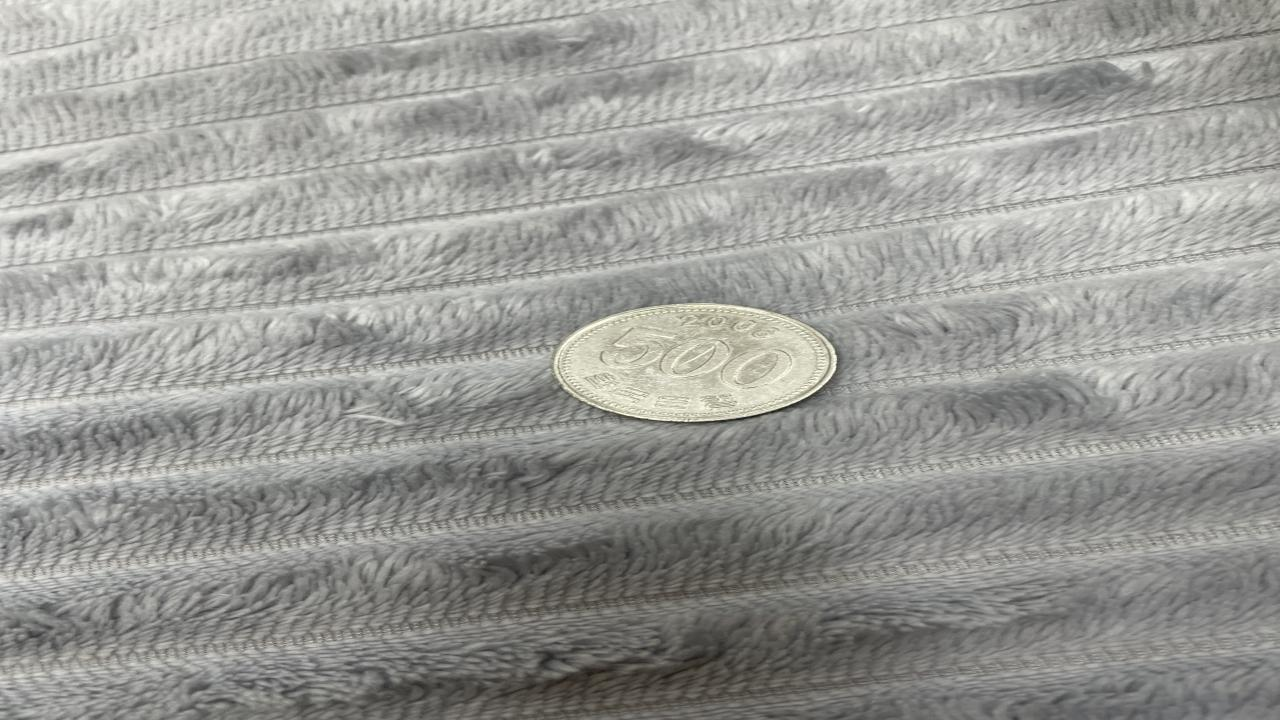coin: (552, 304, 836, 421)
